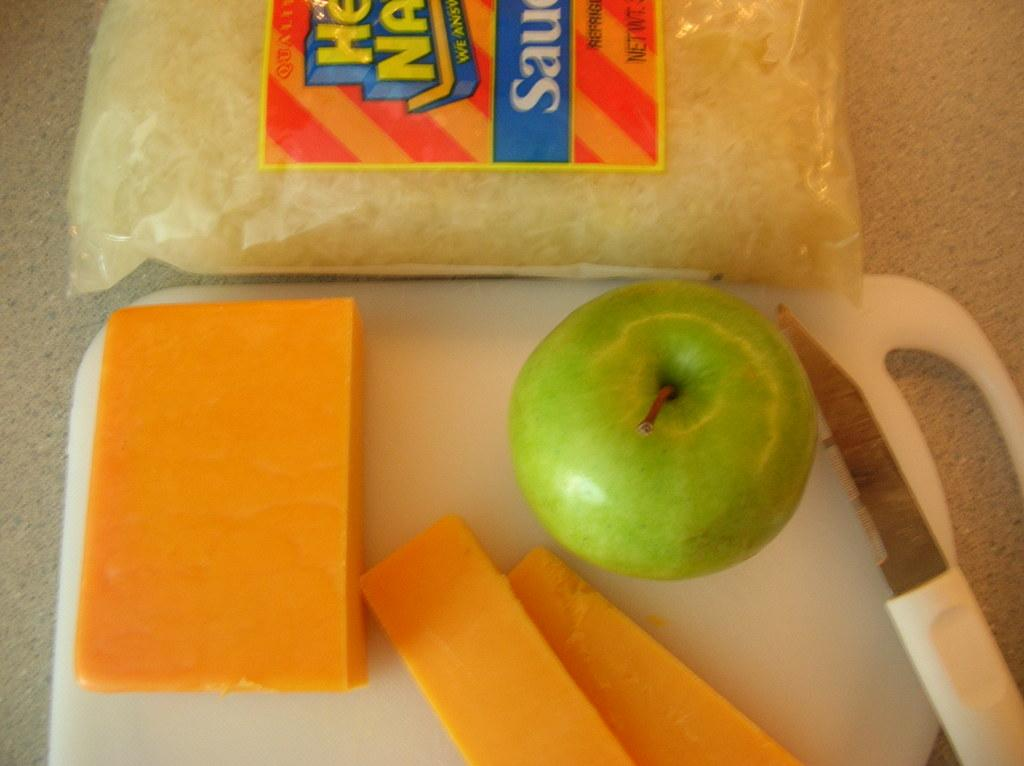Apple: (497, 287, 817, 606)
